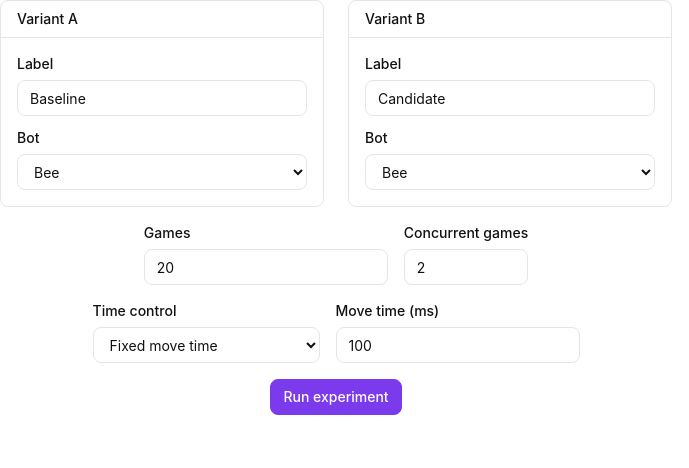
ExperimentSetup › disables the submit button while a label is blank
Clear the field showing "Label" below "Variant A" at (162, 98), box [17,80,307,116]
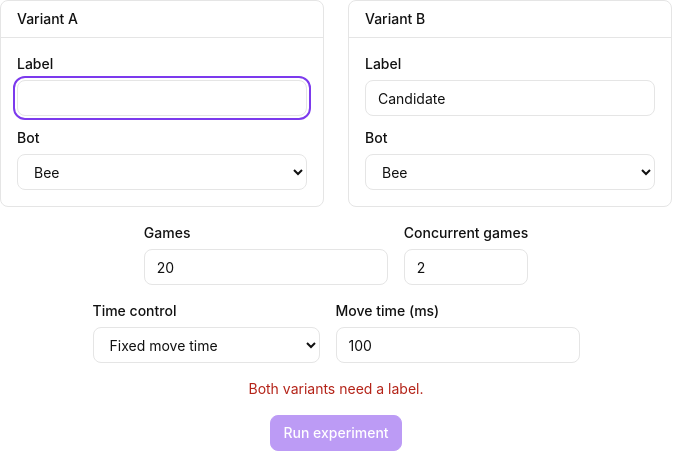
Check: the button "Run experiment" is disabled, box [270,415,402,451]
Check: the text "Both variants need a label." is shown, box [248,379,424,399]
